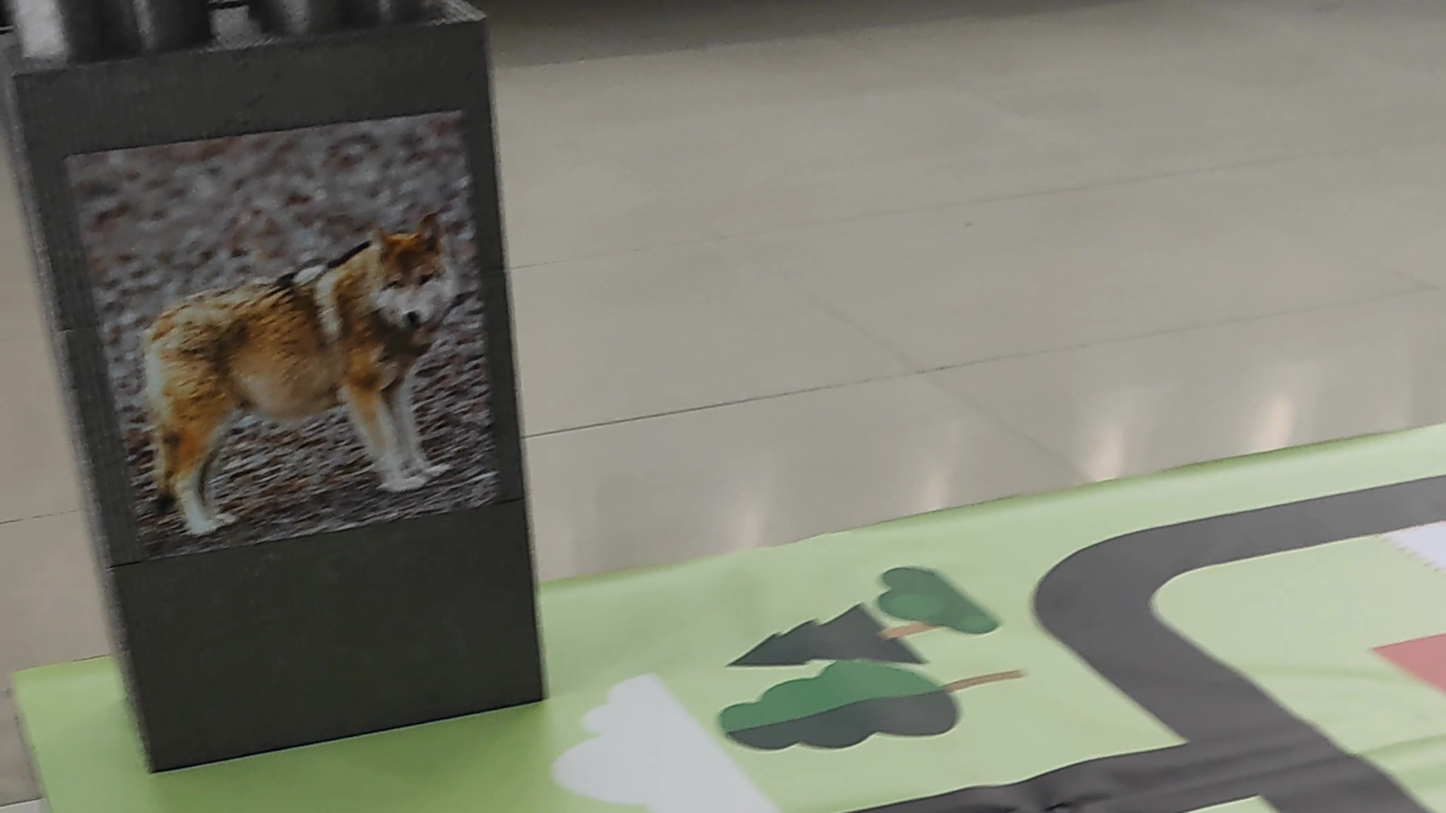wolf: (95, 179, 457, 524)
